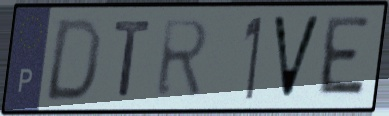1: (242, 13, 265, 102)
D: (41, 14, 106, 104)
E: (313, 13, 374, 101)
R: (153, 17, 213, 101)
T: (111, 18, 155, 100)
V: (269, 13, 324, 103)
